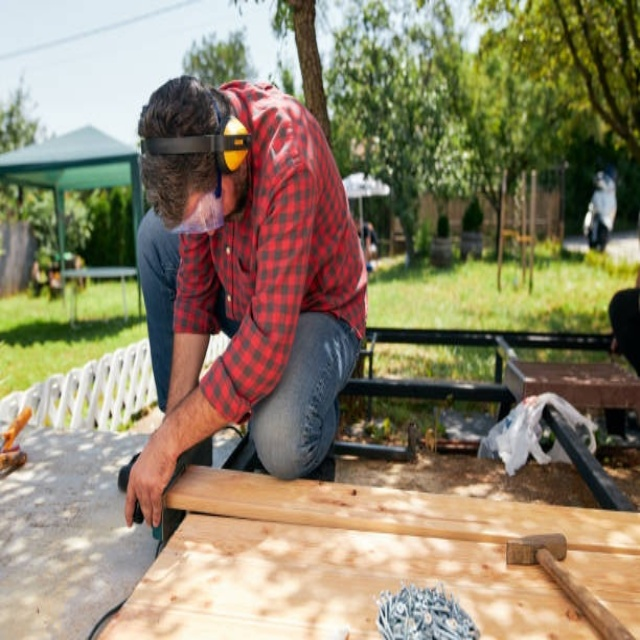Gafas: (172, 171, 222, 235)
Sin_guantes: (122, 440, 177, 533)
